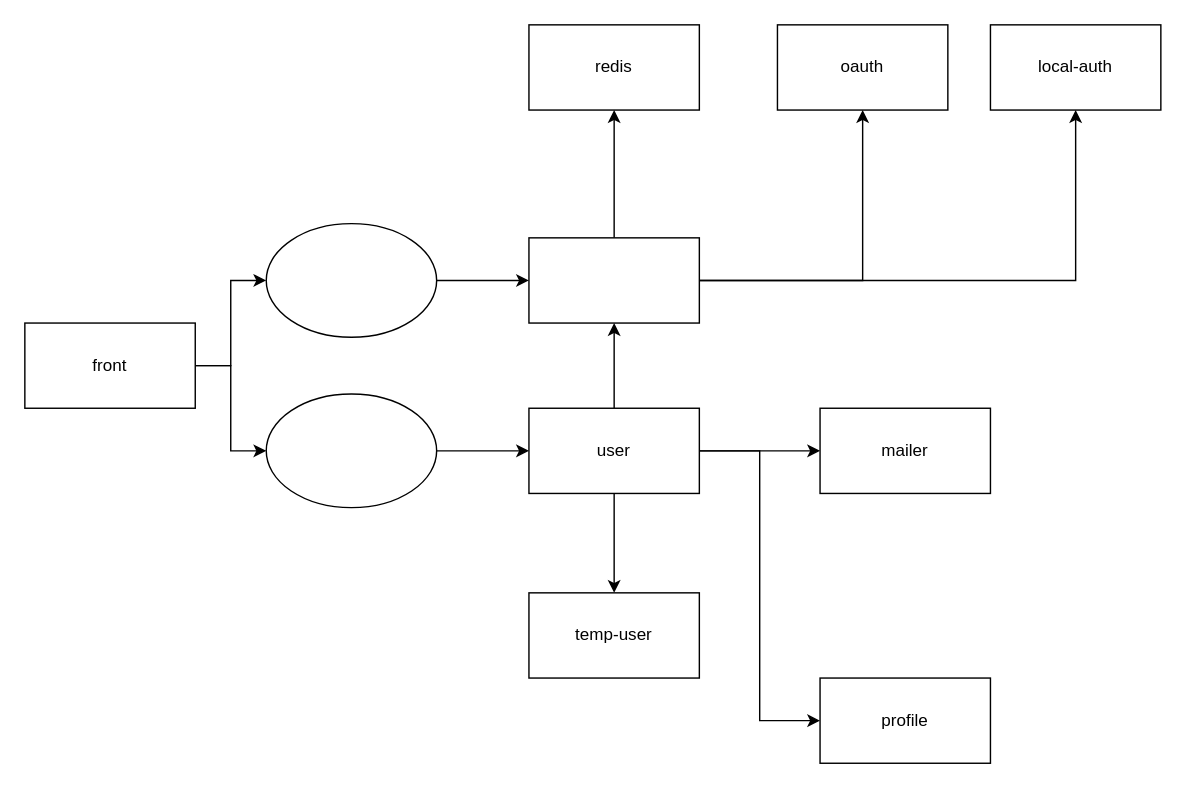
The diagram is 1186 pixels wide and 788 high, and some of its shapes have lost their labels. The centre of each missing label's shape, as x and y in pixels:
"auth" belongs at [613,279].
"auth svc" belongs at [351,279].
"user svc" belongs at [351,450].
